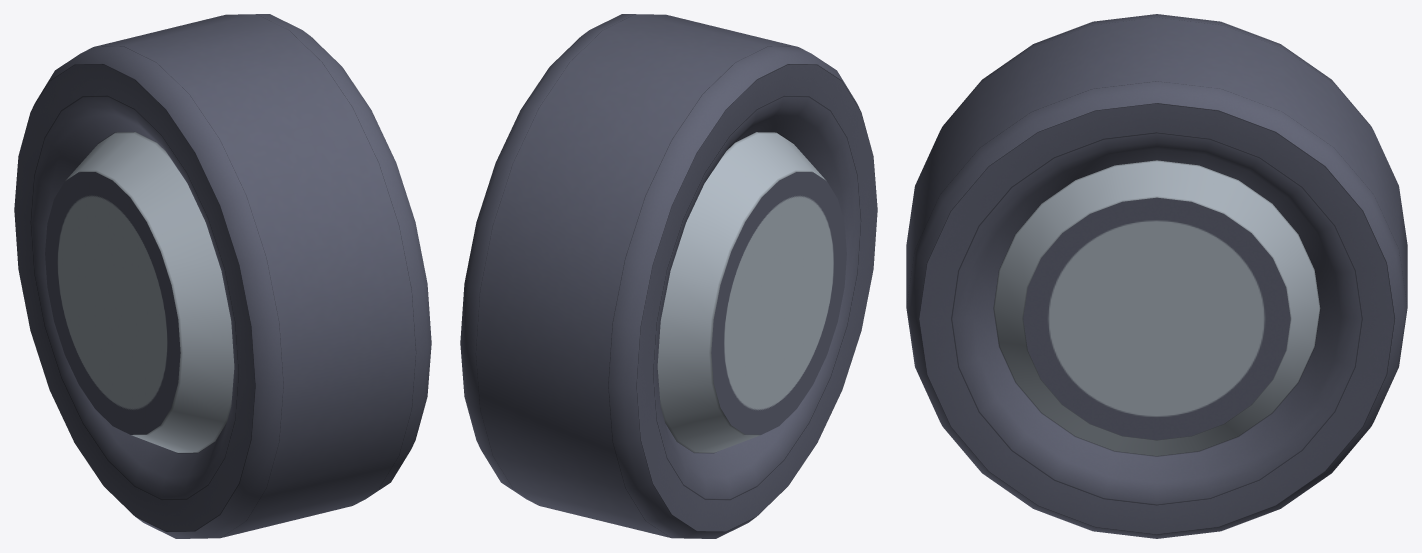
File: Wheel_Big_03.FBX
The picture shows the model from 3 angles, left to right: view 1: azimuth 30°, elevation 25°; view 2: azimuth 150°, elevation 25°; view 3: azimuth 270°, elevation 25°; orthographic projection.
Visible parts, largest first — view 1: Wheel_Big_03; view 2: Wheel_Big_03; view 3: Wheel_Big_03.
Part boxes in pixels (x1,y1,x2,y2): Wheel_Big_03: (14,14,431,538); Wheel_Big_03: (460,14,877,538); Wheel_Big_03: (906,14,1407,538).
Bounding box in the file's own units: 2.25 × 4.99 × 4.99.
